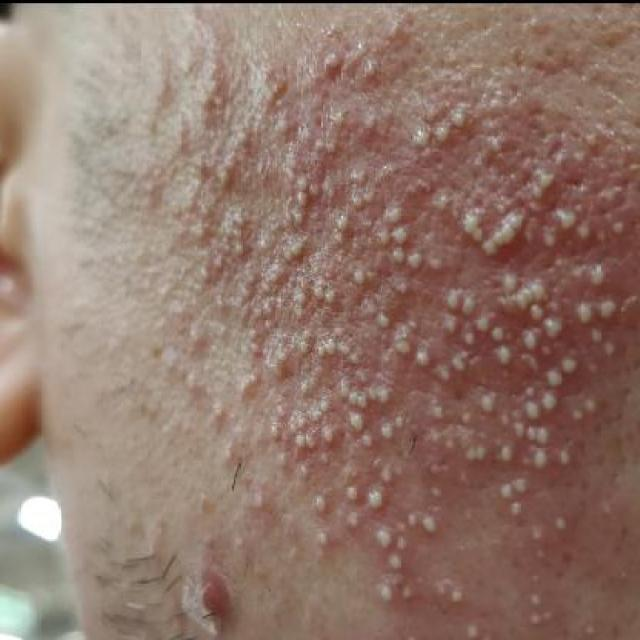pustules: (478, 210, 532, 267), (451, 205, 492, 254), (397, 117, 435, 157), (546, 202, 591, 235), (596, 286, 632, 326), (586, 256, 622, 291), (351, 53, 389, 86), (284, 429, 322, 461), (337, 405, 372, 438), (598, 328, 624, 371), (501, 202, 534, 235), (324, 371, 356, 405), (508, 286, 538, 322), (210, 156, 238, 194), (290, 173, 322, 206), (366, 222, 400, 253), (506, 466, 537, 500), (366, 523, 400, 554), (540, 312, 575, 342), (318, 282, 344, 322), (306, 486, 332, 525), (475, 384, 508, 414), (368, 302, 397, 336), (362, 483, 392, 515), (440, 283, 468, 317), (559, 344, 586, 379), (426, 186, 457, 216), (420, 246, 449, 278), (309, 526, 342, 554), (564, 301, 598, 328), (385, 240, 420, 266), (278, 208, 311, 235), (489, 221, 522, 248), (482, 482, 516, 508), (420, 510, 446, 544), (324, 131, 354, 160), (488, 440, 518, 469), (454, 293, 486, 320), (397, 245, 431, 270), (529, 421, 557, 451), (374, 458, 400, 490), (275, 237, 308, 262), (529, 166, 560, 192), (289, 336, 320, 362), (345, 386, 377, 411), (408, 344, 437, 371), (324, 106, 354, 132), (474, 308, 504, 334), (530, 448, 556, 478), (308, 272, 332, 304), (314, 334, 346, 358), (440, 587, 472, 611), (386, 220, 414, 247), (388, 276, 417, 302), (397, 310, 426, 336), (537, 388, 566, 414), (382, 202, 412, 227), (368, 382, 398, 407), (424, 122, 458, 144), (362, 174, 384, 208), (517, 323, 541, 354), (489, 344, 520, 368), (531, 270, 554, 302), (355, 107, 383, 133), (498, 502, 530, 524), (228, 202, 255, 228), (268, 342, 295, 368), (519, 588, 546, 614), (431, 362, 460, 386), (271, 110, 294, 140), (233, 264, 264, 286), (572, 219, 598, 245), (502, 267, 528, 293), (437, 312, 463, 338), (426, 398, 452, 424), (340, 346, 368, 370), (451, 346, 475, 374), (229, 232, 254, 258), (240, 320, 265, 346), (345, 262, 372, 286), (291, 278, 309, 314), (343, 187, 369, 211), (328, 224, 352, 250), (585, 386, 609, 412), (356, 430, 382, 454), (380, 552, 406, 576), (602, 214, 629, 237), (392, 534, 414, 562), (462, 442, 492, 462), (540, 224, 562, 251), (371, 581, 398, 603), (546, 512, 574, 533), (377, 416, 397, 445), (543, 363, 568, 386), (455, 621, 488, 638), (383, 342, 411, 362), (526, 524, 551, 546), (342, 504, 360, 534), (360, 262, 382, 286), (486, 320, 508, 344), (344, 484, 368, 506), (423, 482, 449, 502), (522, 397, 543, 421), (440, 114, 471, 130), (330, 214, 356, 233), (318, 426, 340, 448), (454, 410, 478, 430), (391, 411, 411, 435), (557, 445, 577, 469), (580, 620, 606, 638), (458, 329, 482, 348), (569, 404, 589, 426), (234, 123, 252, 147), (437, 435, 461, 453), (398, 586, 418, 606), (314, 392, 332, 414), (404, 509, 422, 531), (532, 541, 551, 560), (522, 381, 540, 400), (529, 610, 549, 627), (296, 411, 312, 432), (434, 581, 451, 598)
